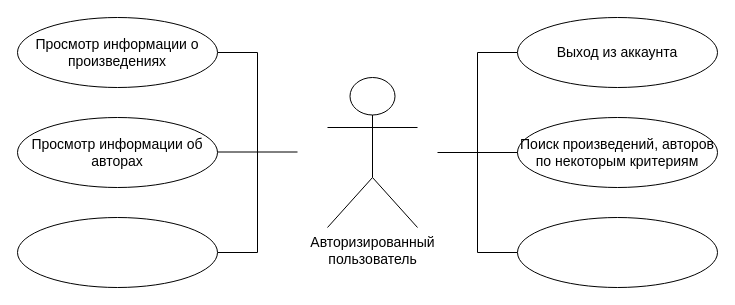
The diagram is 735 pixels wide and 305 high, and some of its shapes have lost their labels. The shapes that lost their labels are listed below. From the top down, each one's centre as x and y in pixels, then its label:
(117,252): Просмотр информации о сериях
(617,252): Добавление произведения на свою "книжную полку"
